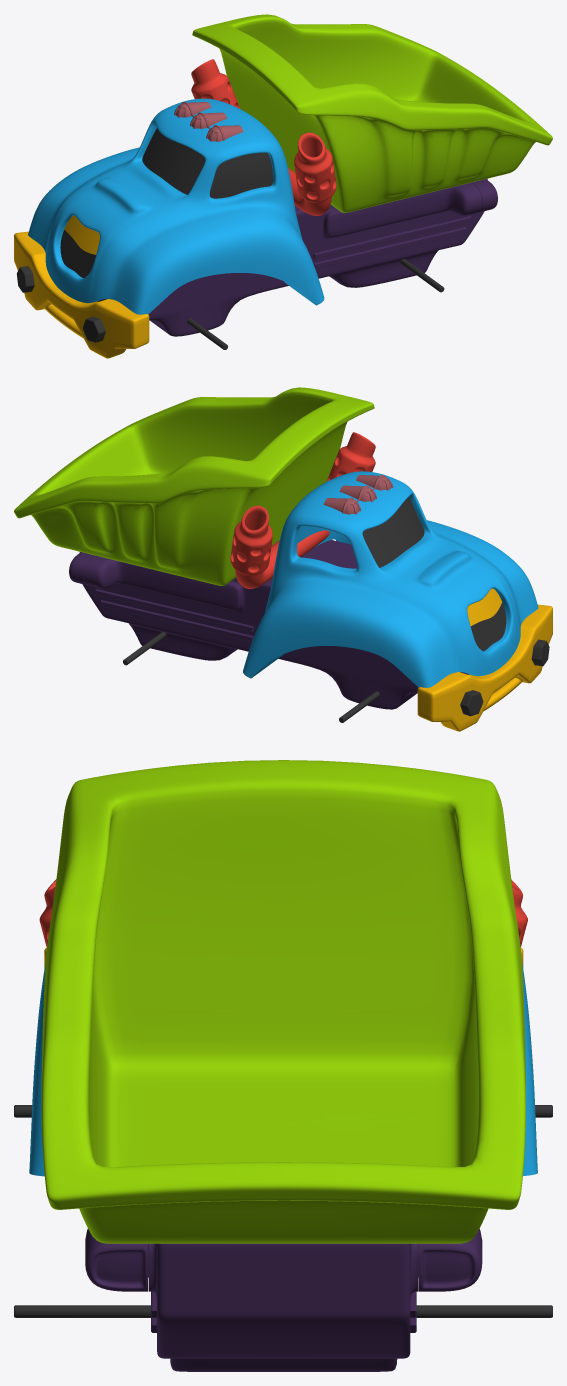
Rendered from Kids Truck.fbx.
3 renders of one model, top to bottom at view 1: azimuth 30°, elevation 25°; view 2: azimuth 150°, elevation 25°; view 3: azimuth 270°, elevation 25°, orthographic. The views are drawn at different scales.
Visible parts, largest first — view 1: korpus_; view 2: korpus_; view 3: korpus_.
Part boxes in pixels (left/top/right/bottom): korpus_: left=14, top=14, right=552, bottom=358; korpus_: left=14, top=387, right=552, bottom=731; korpus_: left=14, top=760, right=552, bottom=1371.
Bounding box in the file's own units: 18.82 × 35.45 × 18.14.
